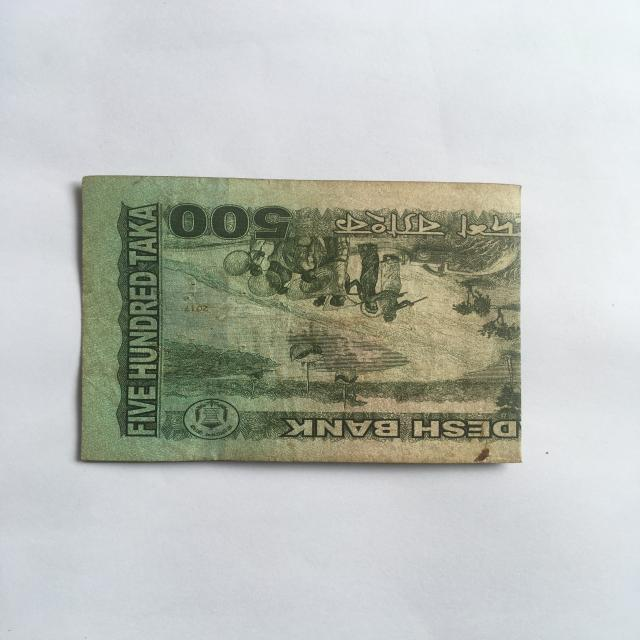Taka: (74, 167, 531, 469)
